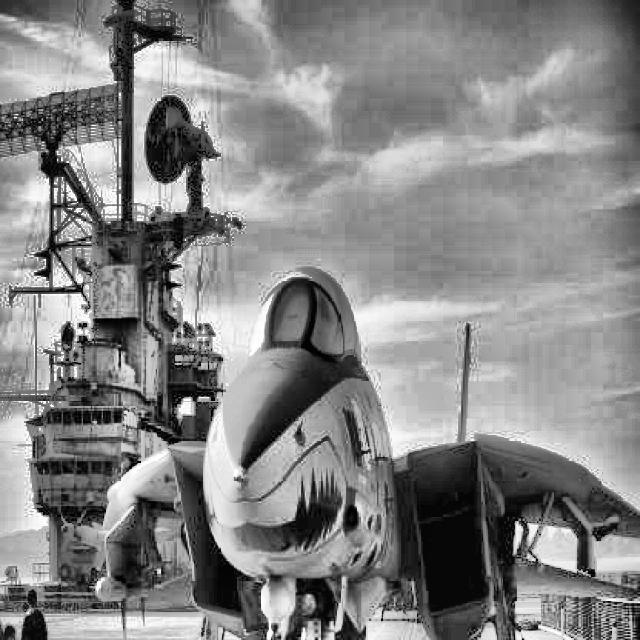F14: (58, 266, 640, 640)
